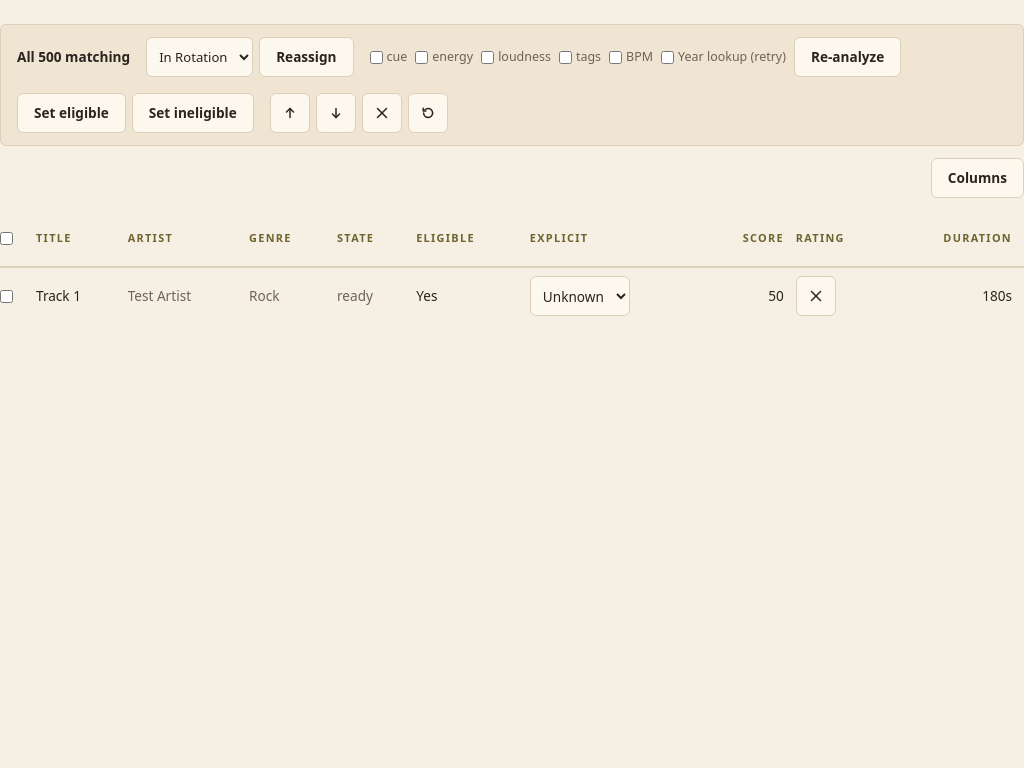
Feature: Rank artists and albums from the Catalog toolbar › Scenario: the operator is informed, never surprised › a confirm dialog precedes a by-filter sweep, naming the matched count (F61.4)
Click the button named "Vote up". click: (290, 113)
box: [270,93,310,133]
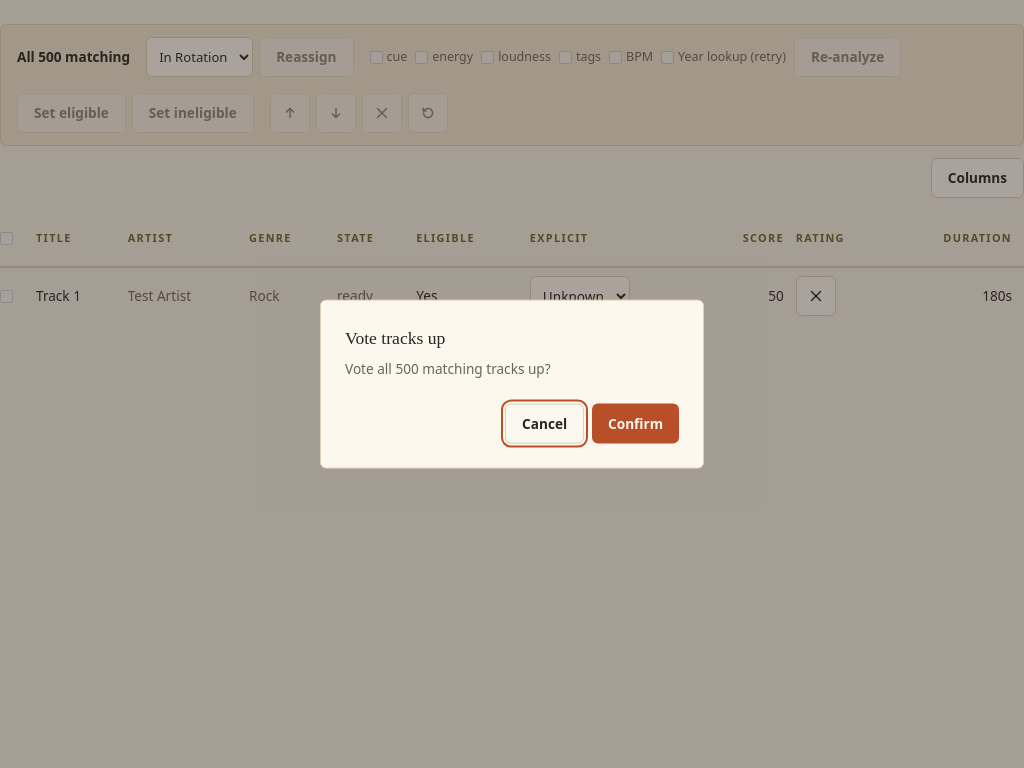
Expected: the dialog shows "500 matching", [345,359,551,378]
